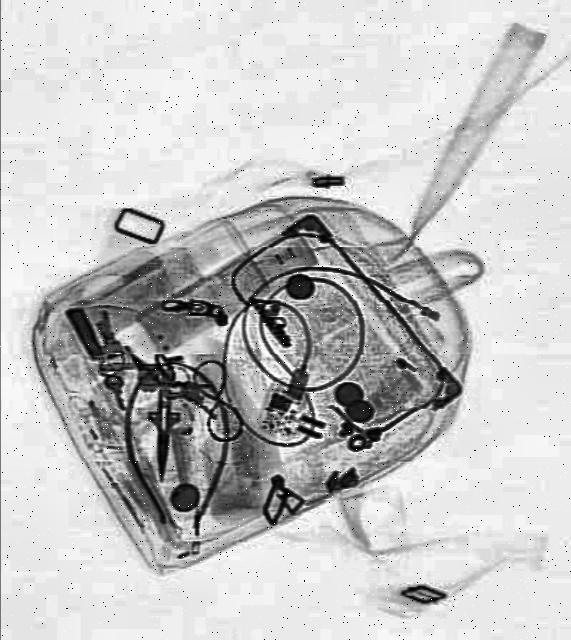Knife: (146, 392, 184, 483)
